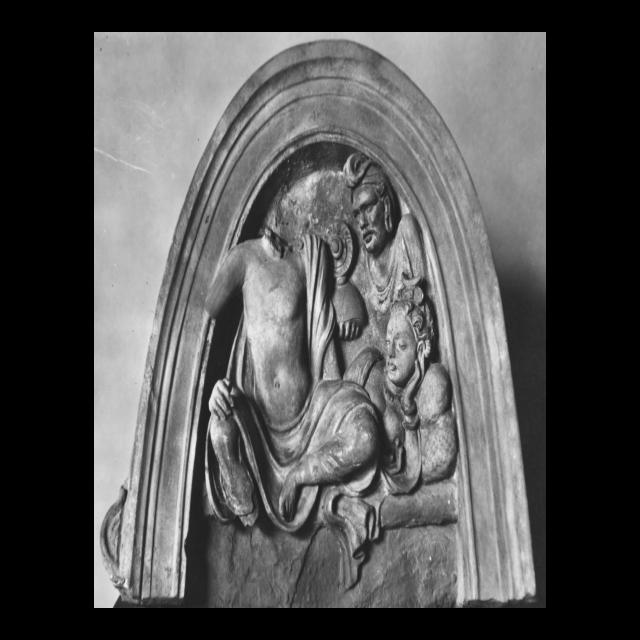buddha-sitting: (205, 224, 380, 587)
